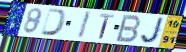8: (22, 8, 43, 35)
B: (114, 14, 143, 44)
D: (39, 8, 69, 37)
I: (76, 10, 93, 40)
J: (139, 17, 166, 45)
T: (98, 13, 115, 40)
